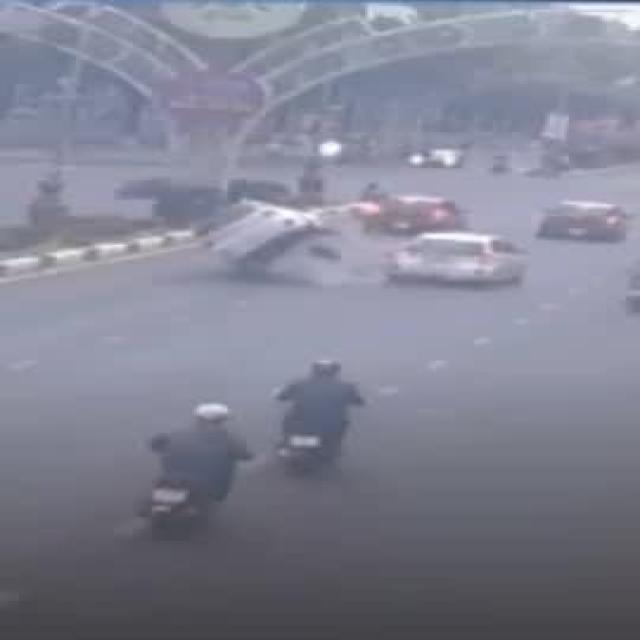multiple_accident: (180, 196, 533, 295)
normal: (114, 316, 371, 554)
